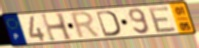4: (28, 14, 47, 42)
9: (128, 8, 151, 35)
D: (94, 9, 122, 38)
E: (148, 5, 179, 34)
H: (39, 12, 74, 43)
R: (69, 10, 102, 40)
